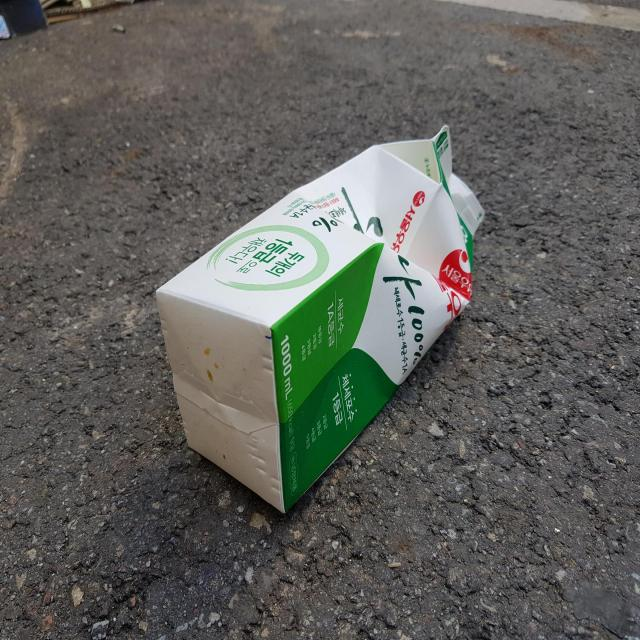paperpack: (156, 125, 484, 512)
